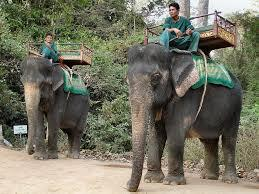elephant: (127, 42, 241, 190), (21, 56, 89, 158)
